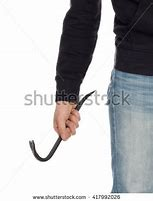crowbar: (28, 88, 97, 163)
